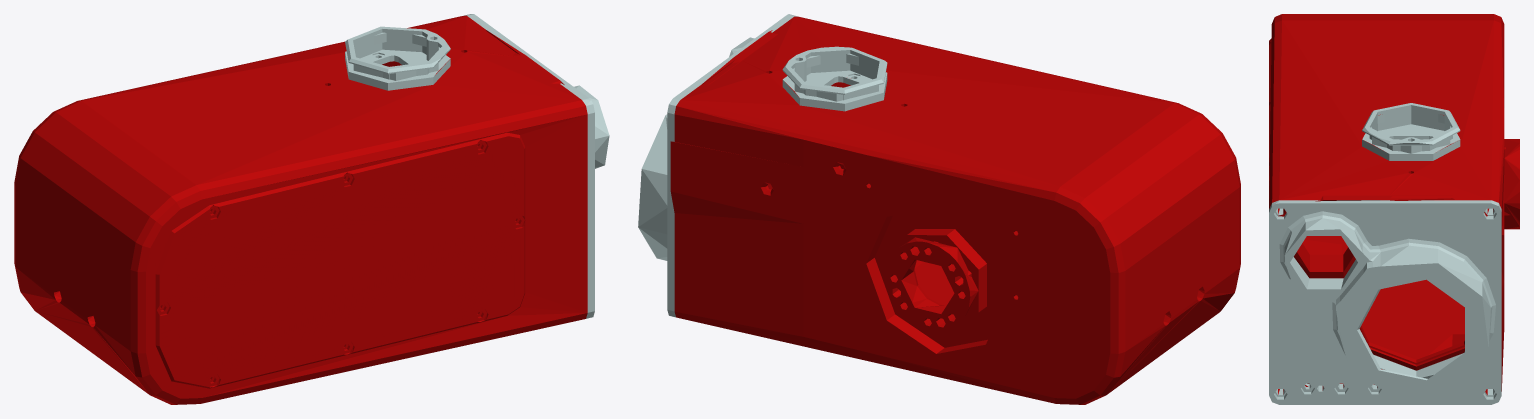
The model's file is arm_link_4.dae.
3 views of the same model, side by side, from view 1: azimuth 30°, elevation 25°; view 2: azimuth 150°, elevation 25°; view 3: azimuth 270°, elevation 25° (orthographic). The views are drawn at different scales.
Parts seen in each view (by area): view 1: Arm_Link_4; view 2: Arm_Link_4; view 3: Arm_Link_4.
Boxes of the visible parts, box(x1,y1,x2,y2) form: Arm_Link_4: box(14, 14, 609, 404); Arm_Link_4: box(638, 14, 1240, 404); Arm_Link_4: box(1269, 14, 1519, 404).
Bounding box in the file's own units: 203 × 97 × 97.
